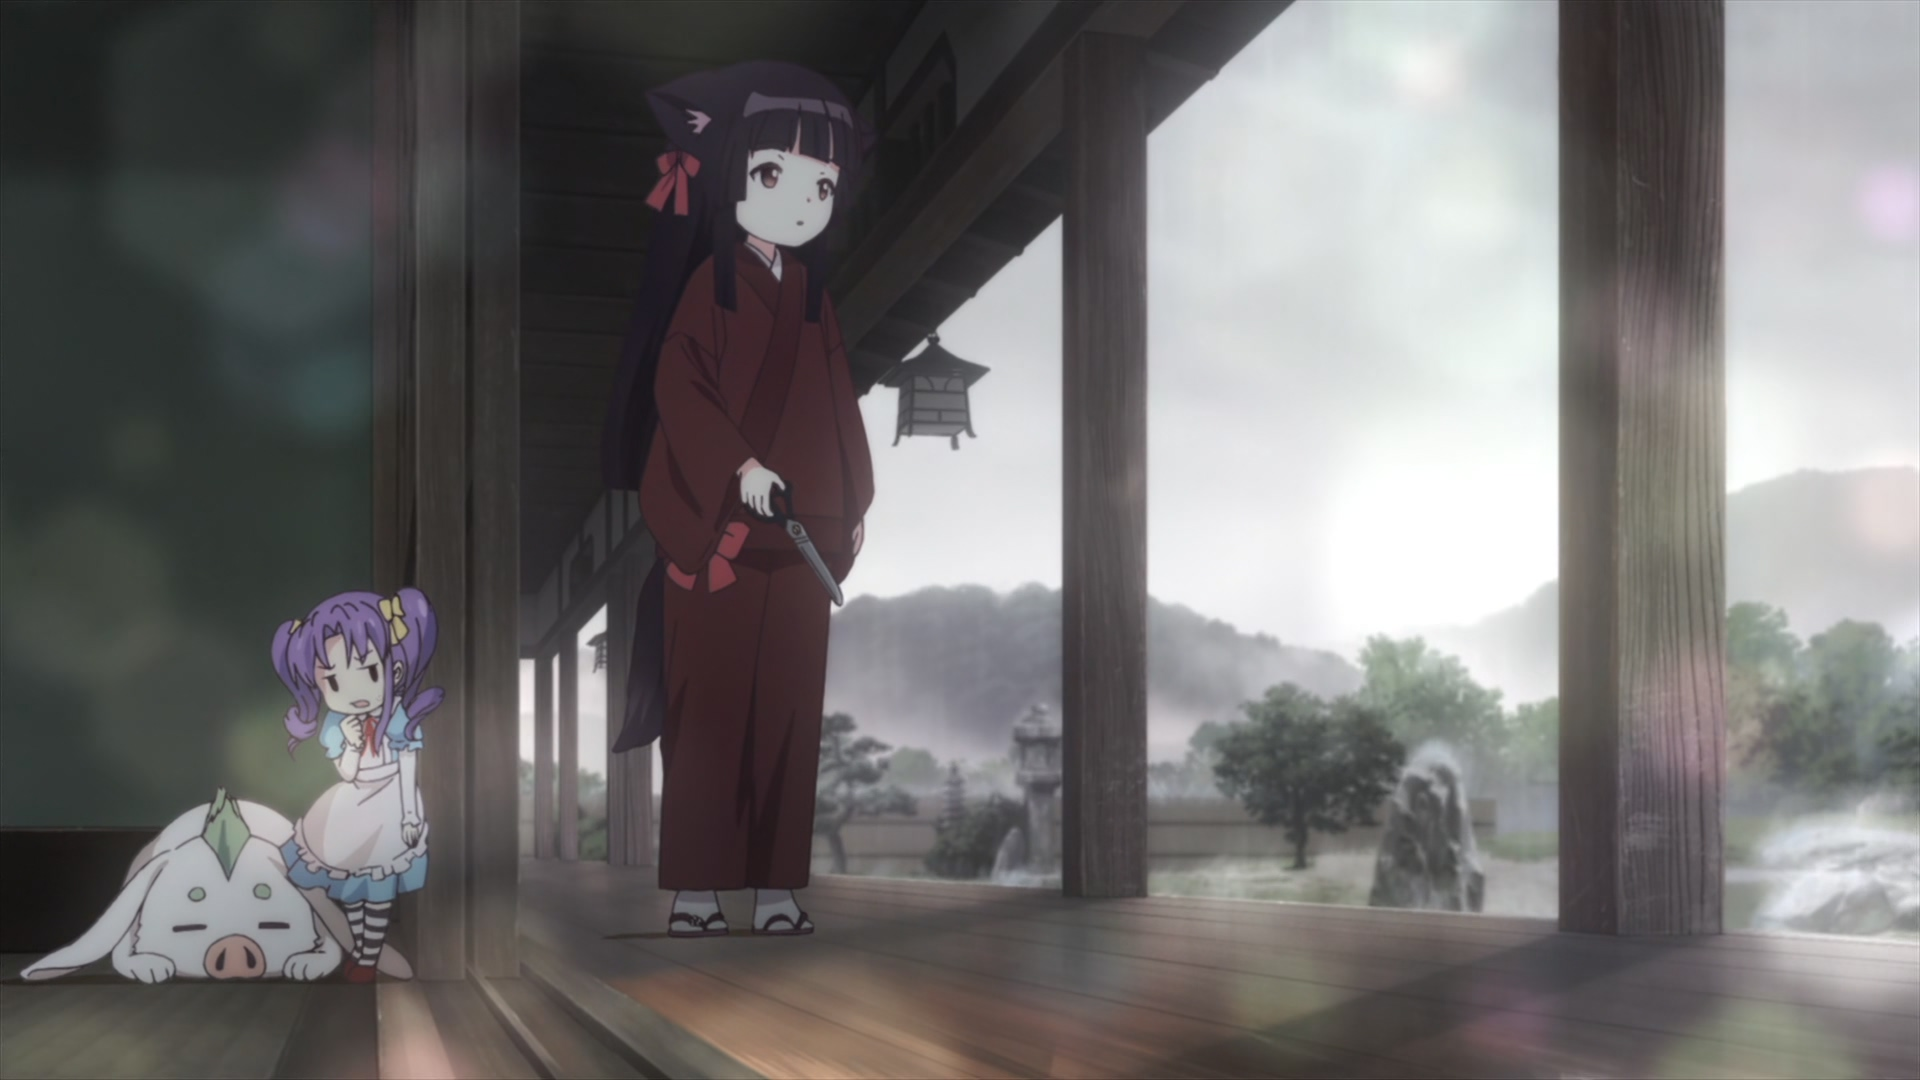樱: (613, 61, 876, 938)
瓜之介: (22, 789, 418, 985)
阿菊: (270, 583, 442, 985)
